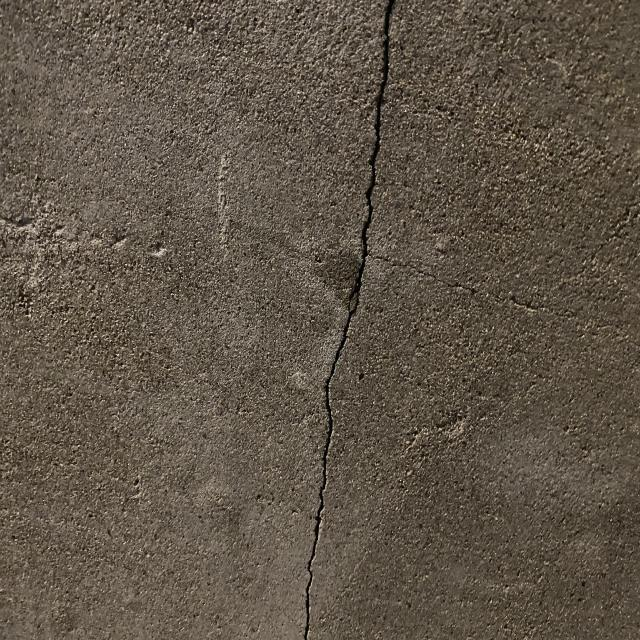SurfaceCrack: (264, 0, 444, 640)
